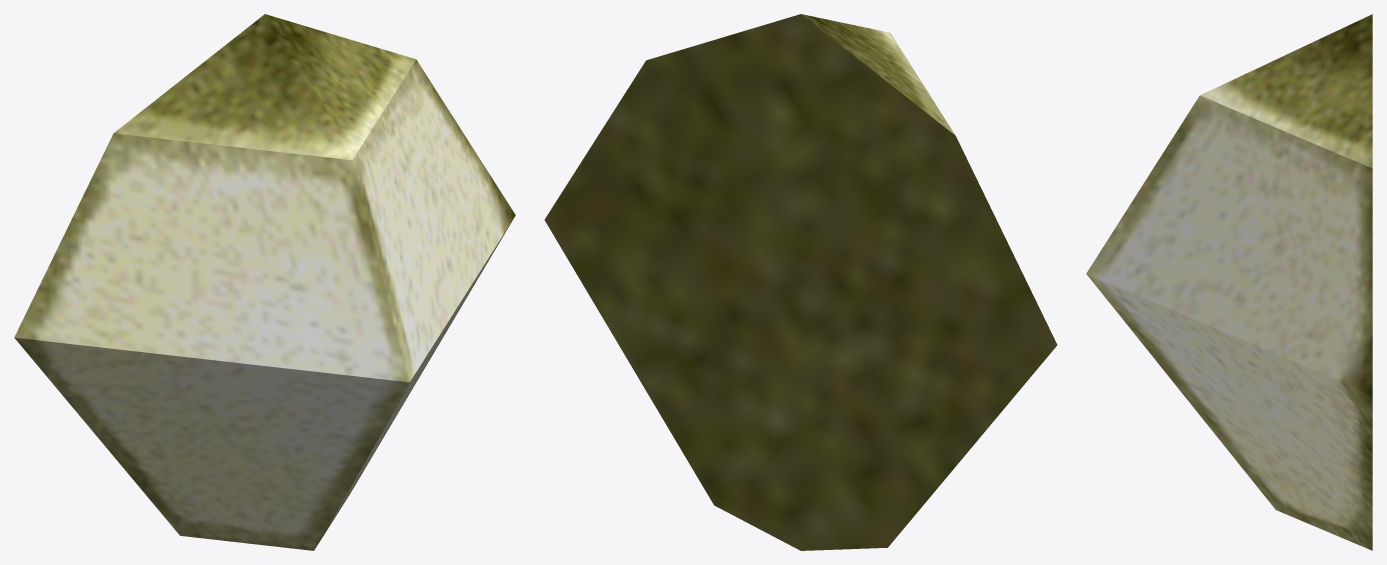
The model's file is Lamp02.obj.
3 views of the same model, side by side, from view 1: azimuth 30°, elevation 25°; view 2: azimuth 150°, elevation 25°; view 3: azimuth 270°, elevation 25° (orthographic). The views are drawn at different scales.
Visible parts, largest first — view 1: Lamp02_Sphere.001; view 2: Lamp02_Sphere.001; view 3: Lamp02_Sphere.001.
Part boxes in pixels (x1=…): Lamp02_Sphere.001: x1=14, y1=14, x2=515, y2=550; Lamp02_Sphere.001: x1=544, y1=14, x2=1057, y2=550; Lamp02_Sphere.001: x1=1086, y1=14, x2=1372, y2=550.
Bounding box in the file's own units: 2 × 2 × 1.
